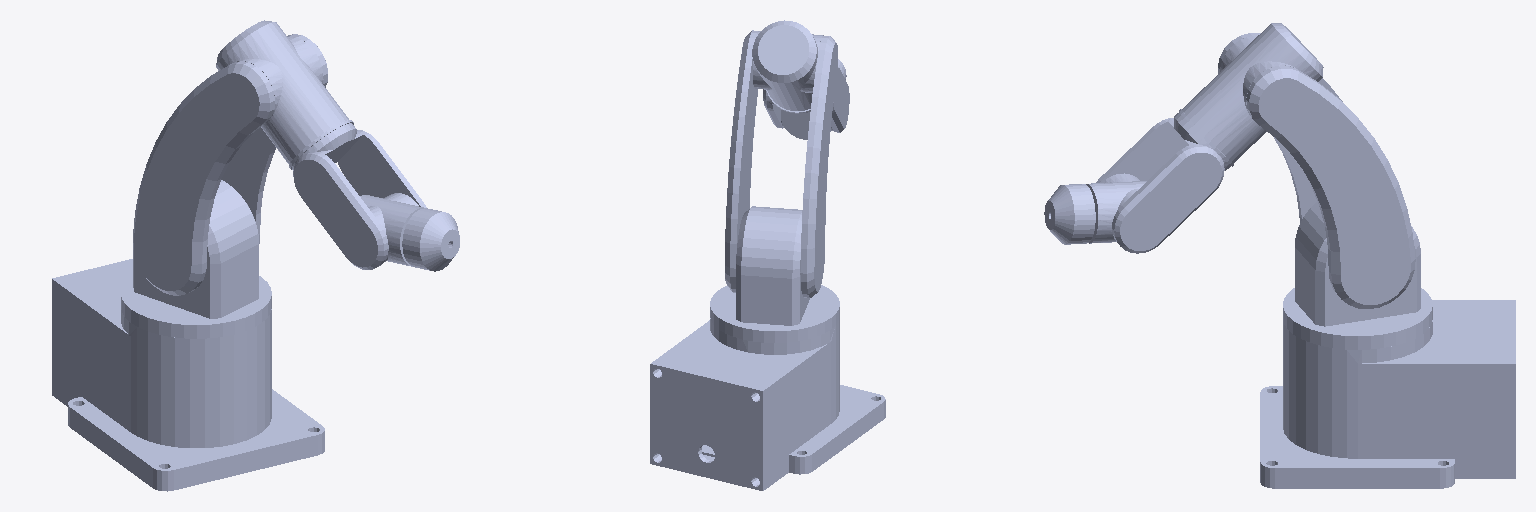
The robot description file, URDF, robot "urdf2":
<?xml version="1.0" encoding="utf-8"?>
<!-- This URDF was automatically created by SolidWorks to URDF Exporter! Originally created by [author] ([email redacted]) 
     Commit Version: 1.6.0-4-g7f85cfe  Build Version: 1.6.7995.38578
     For more information, please see http://wiki.ros.org/sw_urdf_exporter -->
<robot
  name="urdf2">
  <link
    name="eslabon_0">
    <inertial>
      <origin
        xyz="1.0422E-11 0.017244 0.037691"
        rpy="0 0 0" />
      <mass
        value="0.89153" />
      <inertia
        ixx="0.0016943"
        ixy="7.8702E-15"
        ixz="-6.1537E-14"
        iyy="0.0017073"
        iyz="-0.00010181"
        izz="0.0019831" />
    </inertial>
    <visual>
      <origin
        xyz="0 0 0"
        rpy="0 0 0" />
      <geometry>
        <mesh
          filename="package://urdf2/meshes/eslabon_0.STL" />
      </geometry>
      <material
        name="">
        <color
          rgba="0.79216 0.81961 0.93333 1" />
      </material>
    </visual>
    <collision>
      <origin
        xyz="0 0 0"
        rpy="0 0 0" />
      <geometry>
        <mesh
          filename="package://urdf2/meshes/eslabon_0.STL" />
      </geometry>
    </collision>
  </link>
  <link
    name="Link_1">
    <inertial>
      <origin
        xyz="4.85722573273506E-16 4.9960036108132E-16 -0.0203423923814379"
        rpy="0 0 0" />
      <mass
        value="0.235997319223989" />
      <inertia
        ixx="0.000242917324320263"
        ixy="-2.03287907341032E-20"
        ixz="-4.98707991001971E-20"
        iyy="0.000301154082942842"
        iyz="-2.13013066383385E-20"
        izz="0.000218774157929577" />
    </inertial>
    <visual>
      <origin
        xyz="0 0 0"
        rpy="0 0 0" />
      <geometry>
        <mesh
          filename="package://urdf2/meshes/Link_1.STL" />
      </geometry>
      <material
        name="">
        <color
          rgba="0.792156862745098 0.819607843137255 0.933333333333333 1" />
      </material>
    </visual>
    <collision>
      <origin
        xyz="0 0 0"
        rpy="0 0 0" />
      <geometry>
        <mesh
          filename="package://urdf2/meshes/Link_1.STL" />
      </geometry>
    </collision>
  </link>
  <joint
    name="Joint_1"
    type="revolute">
    <origin
      xyz="0 0 0.145"
      rpy="0 0 -1.2171" />
    <parent
      link="eslabon_0" />
    <child
      link="Link_1" />
    <axis
      xyz="0 0 1" />
    <limit
      lower="0"
      upper="3.142"
      effort="300"
      velocity="3" />
  </joint>
  <link
    name="link_2">
    <inertial>
      <origin
        xyz="0.0233269033944592 2.4980018054066E-15 0.0586342311289204"
        rpy="0 0 0" />
      <mass
        value="0.35706117343289" />
      <inertia
        ixx="0.00142940937450205"
        ixy="-1.0842021724855E-19"
        ixz="-0.000540372449573386"
        iyy="0.00155564200618658"
        iyz="-1.89735380184963E-19"
        izz="0.000544753645972744" />
    </inertial>
    <visual>
      <origin
        xyz="0 0 0"
        rpy="0 0 0" />
      <geometry>
        <mesh
          filename="package://urdf2/meshes/link_2.STL" />
      </geometry>
      <material
        name="">
        <color
          rgba="0.792156862745098 0.819607843137255 0.933333333333333 1" />
      </material>
    </visual>
    <collision>
      <origin
        xyz="0 0 0"
        rpy="0 0 0" />
      <geometry>
        <mesh
          filename="package://urdf2/meshes/link_2.STL" />
      </geometry>
    </collision>
  </link>
  <joint
    name="Joint_2"
    type="continuous">
    <origin
      xyz="0 0 0"
      rpy="0 0 0" />
    <parent
      link="Link_1" />
    <child
      link="link_2" />
    <axis
      xyz="0 1 0" />
    <limit
      lower="-1.57"
      upper="1.57"
      effort="200"
      velocity="3" />
  </joint>
  <link
    name="link_3">
    <inertial>
      <origin
        xyz="-0.0135763809770153 -0.0555832299864361 -6.97451801867643E-09"
        rpy="0 0 0" />
      <mass
        value="0.197506281990069" />
      <inertia
        ixx="0.000202701886888169"
        ixy="-2.93205804778591E-05"
        ixz="2.71305654108263E-11"
        iyy="8.9821788904807E-05"
        iyz="1.57443366058806E-11"
        izz="0.000191906644680011" />
    </inertial>
    <visual>
      <origin
        xyz="0 0 0"
        rpy="0 0 0" />
      <geometry>
        <mesh
          filename="package://urdf2/meshes/link_3.STL" />
      </geometry>
      <material
        name="">
        <color
          rgba="0.792156862745098 0.819607843137255 0.933333333333333 1" />
      </material>
    </visual>
    <collision>
      <origin
        xyz="0 0 0"
        rpy="0 0 0" />
      <geometry>
        <mesh
          filename="package://urdf2/meshes/link_3.STL" />
      </geometry>
    </collision>
  </link>
  <joint
    name="Joint_3"
    type="revolute">
    <origin
      xyz="0.06605 0 0.13468"
      rpy="1.5708 -1.1148 0" />
    <parent
      link="link_2" />
    <child
      link="link_3" />
    <axis
      xyz="0 0 -1" />
    <limit
      lower="0"
      upper="3.142"
      effort="200"
      velocity="3" />
  </joint>
  <link
    name="link_4">
    <inertial>
      <origin
        xyz="0.0252610623340964 -1.57198752792631E-07 1.05072867018219E-07"
        rpy="0 0 0" />
      <mass
        value="0.0567373643332565" />
      <inertia
        ixx="1.2172811083238E-05"
        ixy="-5.09895555882774E-11"
        ixz="1.15162084022227E-10"
        iyy="1.52409575169798E-05"
        iyz="-1.92566419846967E-10"
        izz="1.6776681364006E-05" />
    </inertial>
    <visual>
      <origin
        xyz="0 0 0"
        rpy="0 0 0" />
      <geometry>
        <mesh
          filename="package://urdf2/meshes/link_4.STL" />
      </geometry>
      <material
        name="">
        <color
          rgba="0.792156862745098 0.819607843137255 0.933333333333333 1" />
      </material>
    </visual>
    <collision>
      <origin
        xyz="0 0 0"
        rpy="0 0 0" />
      <geometry>
        <mesh
          filename="package://urdf2/meshes/link_4.STL" />
      </geometry>
    </collision>
  </link>
  <joint
    name="Joint_4"
    type="continuous">
    <origin
      xyz="-0.02966 -0.12143 0"
      rpy="0 0 -1.005" />
    <parent
      link="link_3" />
    <child
      link="link_4" />
    <axis
      xyz="0 0 -1" />
    <limit
      upper="-3.142"
      effort="200"
      velocity="3" />
  </joint>
</robot>

--- What the picture shows (computed from the rendered views, not written in the file) ---
3 views of the same robot in one strip: view 1: azimuth 30°, elevation 25°; view 2: azimuth 150°, elevation 25°; view 3: azimuth 270°, elevation 25° (orthographic).
Model urdf2 with 5 links and 4 joints (2 revolute, 2 continuous), rooted at eslabon_0, posed all joints at 0.
Visible links, largest first — view 1: eslabon_0, link_2, link_3, Link_1, link_4; view 2: eslabon_0, Link_1, link_2, link_3, link_4; view 3: eslabon_0, link_2, link_3, Link_1, link_4.
Link boxes in pixels (<box>): eslabon_0: <box>52,259,324,491</box>; link_2: <box>133,34,327,295</box>; link_3: <box>216,20,426,269</box>; Link_1: <box>121,180,271,338</box>; link_4: <box>360,193,459,271</box>; eslabon_0: <box>650,318,885,490</box>; Link_1: <box>710,206,839,342</box>; link_2: <box>725,30,837,297</box>; link_3: <box>752,20,849,132</box>; link_4: <box>781,59,846,139</box>; eslabon_0: <box>1260,300,1515,488</box>; link_2: <box>1218,33,1415,308</box>; link_3: <box>1096,23,1323,253</box>; Link_1: <box>1283,201,1432,349</box>; link_4: <box>1044,173,1146,244</box>.
Bounding box of the posed robot: 0.156 × 0.3137 × 0.318 m (x, y, z).
5 mesh visuals loaded from 5 distinct referenced files (5 binary STL).